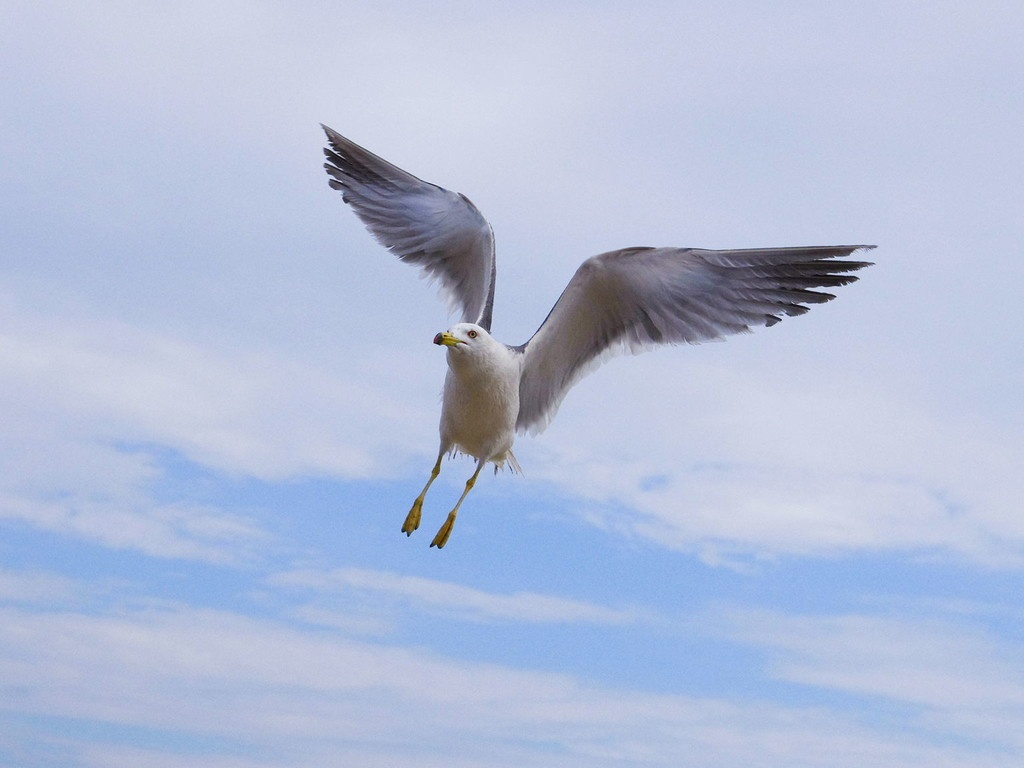bird: (316, 120, 883, 550)
